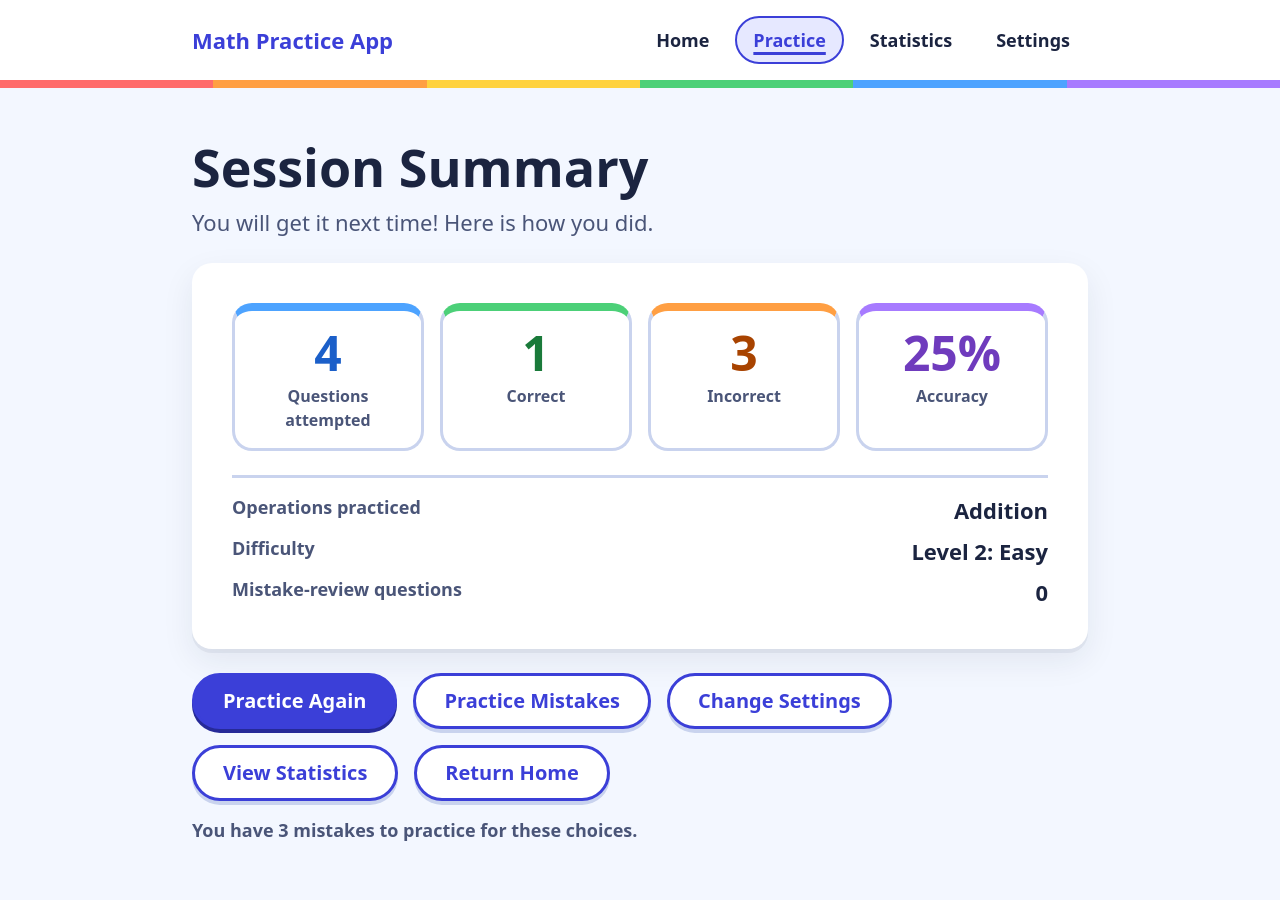
Scenario: SessionSummaryPage › actions › Practice Mistakes › starts a review of the session’s choices
Step 1. Click the button "Practice Mistakes" → [532, 701], box 414,673 -> 651,729
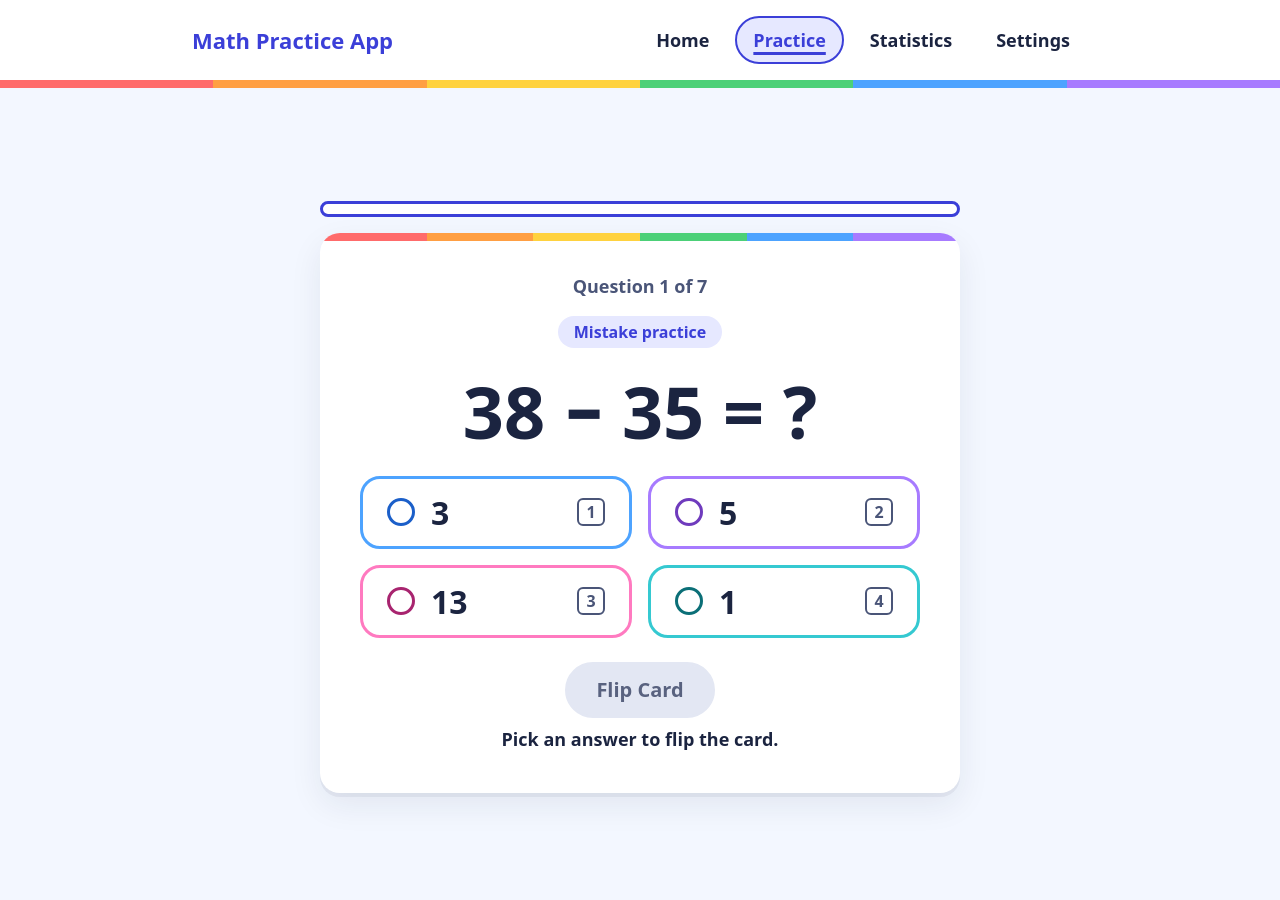
expect the text "Question 1 of 7" is shown: met, box 573,273 -> 707,300
expect the text "Mistake practice" is shown: met, box 558,316 -> 722,348
